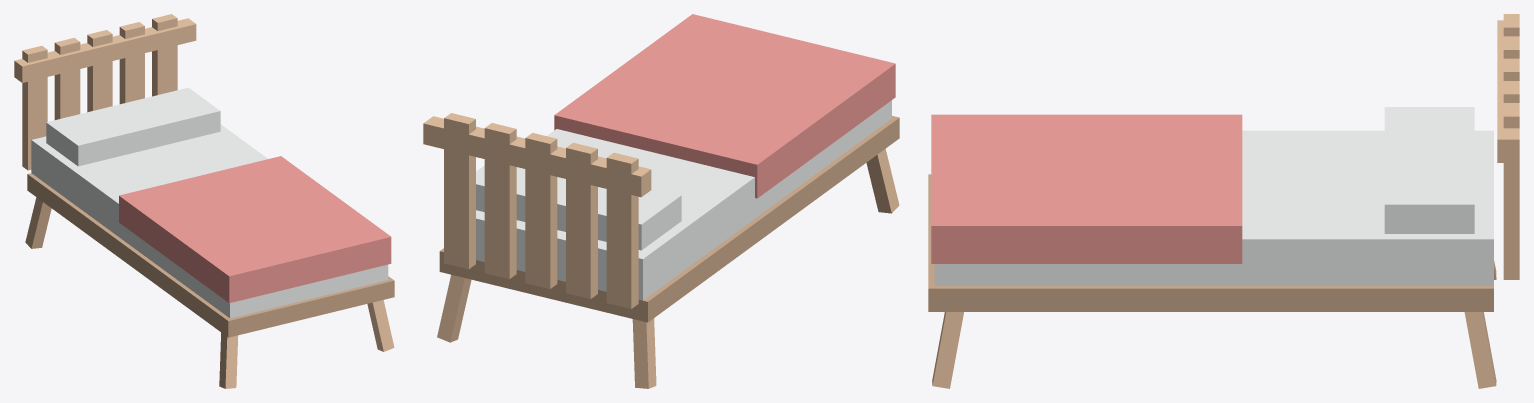
File: bedSingleMidcentury.glb
3 views of the same model, side by side, from view 1: azimuth 30°, elevation 25°; view 2: azimuth 150°, elevation 25°; view 3: azimuth 270°, elevation 25° (orthographic). The views are drawn at different scales.
Parts seen in each view (by area): view 1: bedSingleMidcentury; view 2: bedSingleMidcentury; view 3: bedSingleMidcentury.
Boxes of the visible parts, left/top/right/bottom form: bedSingleMidcentury: left=14, top=14, right=394, bottom=388; bedSingleMidcentury: left=423, top=14, right=899, bottom=388; bedSingleMidcentury: left=928, top=14, right=1519, bottom=388.
Bounding box in the file's own units: 0.44 × 0.4543 × 0.92.
